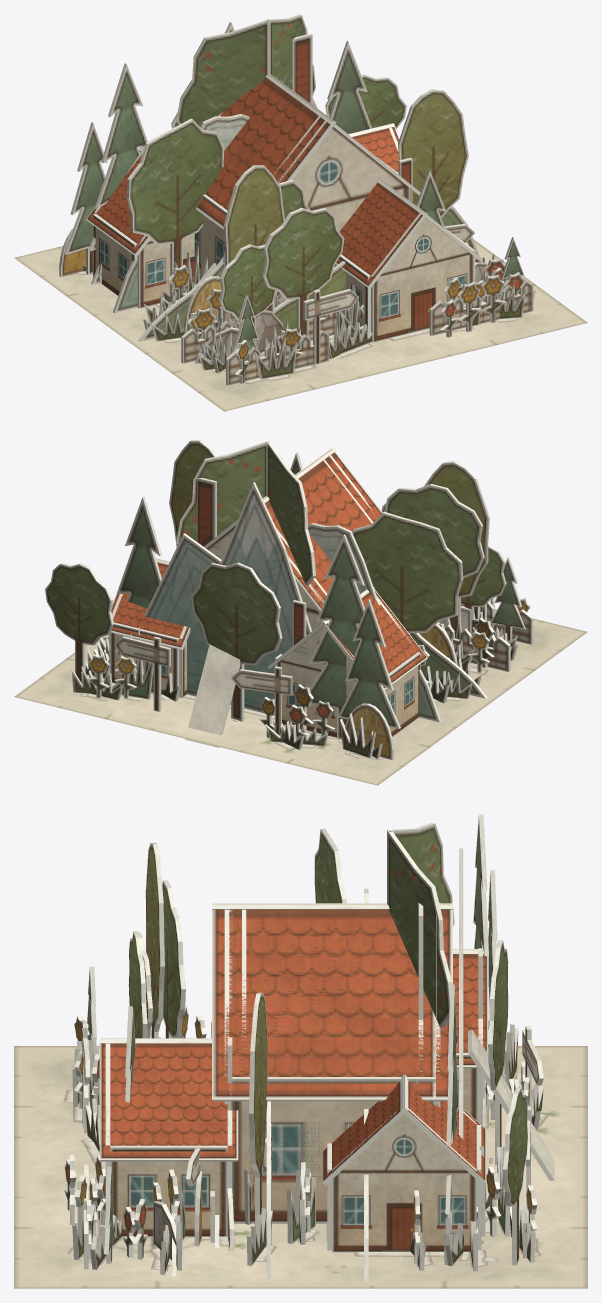
Rendered from tiles.glb.
3 renders of one model, top to bottom at view 1: azimuth 30°, elevation 25°; view 2: azimuth 150°, elevation 25°; view 3: azimuth 270°, elevation 25°, orthographic. The views are drawn at different scales.
Parts seen in each view (by area): view 1: base, flap_tree_0 (×4), flap_house_roof_l (×2), flap_tree_1, flap_house_c_front, flap_conifer_0 (×3), flap_vtree_1, flap_tree_3, flap_tree_2, flap_house_front, flap_house_c_roof_l, flap_conifer_1 (×2) (+24 smaller); view 2: flap_tree_0 (×5), base, flap_hill_0, flap_conifer_0 (×3), flap_tree_1, flap_house_roof_l (×2), flap_vtree_0, flap_vtree_1, flap_house_a_back, flap_sign_0 (×2), flap_strut_0, flap_conifer_1 (+14 smaller); view 3: flap_house_roof_r (×2), base, flap_house_right (×2), flap_house_b_front, flap_house_c_roof_r, flap_tree_0 (×4), flap_house_c_right, flap_vtree_0, flap_tree_2, flap_house_b_roof_r, flap_house_b_roof_l, flap_conifer_0 (×2) (+26 smaller).
Boxes of the visible parts, x1=… form: base: x1=14, y1=239, x2=587, y2=411; flap_tree_0 (×4): x1=219, y1=74, x2=406, y2=343; flap_house_roof_l (×2): x1=196, y1=74, x2=336, y2=229; flap_tree_1: x1=126, y1=118, x2=223, y2=302; flap_house_c_front: x1=371, y1=213, x2=474, y2=342; flap_conifer_0 (×3): x1=64, y1=63, x2=261, y2=360; flap_vtree_1: x1=176, y1=19, x2=269, y2=126; flap_tree_3: x1=262, y1=208, x2=344, y2=336; flap_tree_2: x1=398, y1=89, x2=468, y2=217; flap_house_front: x1=278, y1=120, x2=410, y2=231; flap_house_c_roof_l: x1=335, y1=179, x2=427, y2=288; flap_conifer_1 (×2): x1=327, y1=41, x2=524, y2=297; flap_tree_0 (×5): x1=45, y1=461, x2=506, y2=721; base: x1=14, y1=609, x2=587, y2=785; flap_hill_0: x1=144, y1=482, x2=393, y2=743; flap_conifer_0 (×3): x1=309, y1=534, x2=525, y2=739; flap_tree_1: x1=352, y1=511, x2=463, y2=633; flap_house_roof_l (×2): x1=262, y1=447, x2=382, y2=612; flap_vtree_0: x1=176, y1=441, x2=269, y2=544; flap_vtree_1: x1=266, y1=440, x2=315, y2=585; flap_house_a_back: x1=276, y1=600, x2=356, y2=737; flap_sign_0 (×2): x1=114, y1=636, x2=292, y2=735; flap_strut_0: x1=185, y1=644, x2=240, y2=747; flap_conifer_1: x1=108, y1=496, x2=161, y2=637; flap_house_roof_r (×2): x1=212, y1=903, x2=452, y2=1101; base: x1=14, y1=1046, x2=587, y2=1288; flap_house_right (×2): x1=229, y1=1077, x2=435, y2=1223; flap_house_b_front: x1=332, y1=1108, x2=476, y2=1252; flap_house_c_roof_r: x1=99, y1=1038, x2=238, y2=1161; flap_tree_0 (×4): x1=145, y1=843, x2=527, y2=1265; flap_house_c_right: x1=110, y1=1145, x2=227, y2=1237; flap_vtree_0: x1=387, y1=829, x2=451, y2=1028; flap_tree_2: x1=249, y1=992, x2=267, y2=1229; flap_house_b_roof_r: x1=400, y1=1074, x2=486, y2=1185; flap_house_b_roof_l: x1=322, y1=1074, x2=408, y2=1185; flap_conifer_0 (×2): x1=473, y1=814, x2=497, y2=1098.
Bounding box in the file's own units: 2 × 1.36 × 2.
Materials: 1 (1 with a texture image).
